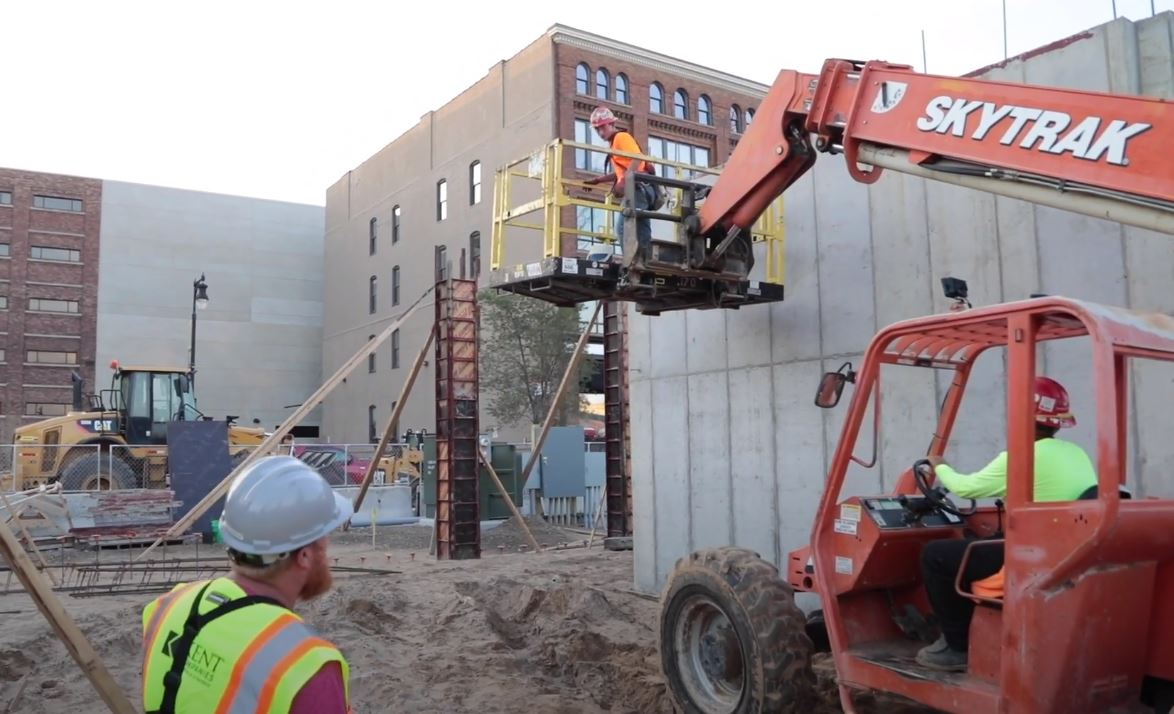Safety Helmet: (196, 420, 355, 620), (1011, 351, 1082, 445), (578, 97, 621, 155)
